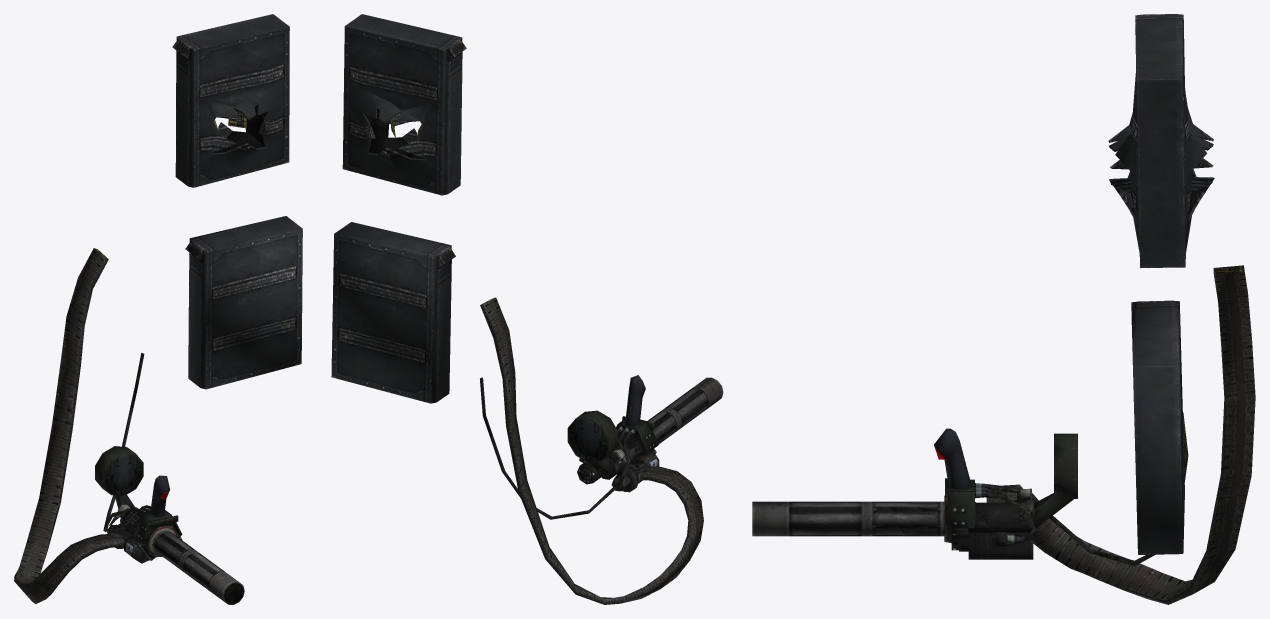
File: t600_gun.glb
3 views of the same model, side by side, from view 1: azimuth 30°, elevation 25°; view 2: azimuth 150°, elevation 25°; view 3: azimuth 270°, elevation 25° (orthographic). The views are drawn at different scales.
Visible parts, largest first — view 1: Object_2; view 2: Object_2; view 3: Object_2.
Part boxes in pixels (x1,y1,x2,y2): Object_2: (14,14,302,604); Object_2: (331,14,723,604); Object_2: (752,14,1255,604).
Size of the model in its own units: 121 by 196 by 129.
Materials: 1 (1 with a texture image).
